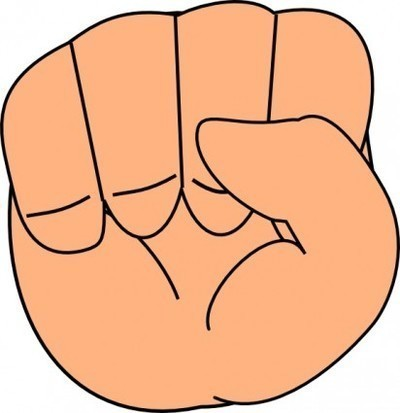closedhandfront: (1, 3, 399, 413)
